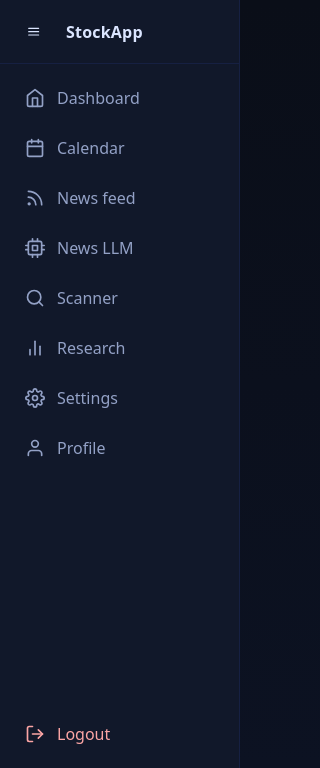
Scenario: Sidebar logout › shows an error and does not redirect when server logout fails
This screenshot has width=320, height=768.
Click the button "Logout" at (120, 734), box [12, 712, 227, 756]
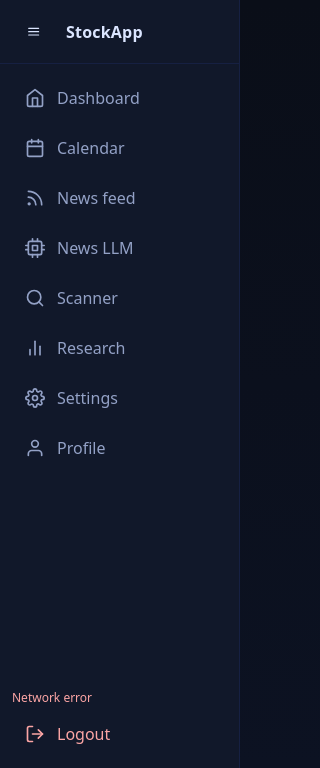
Expected: the message reads "Network error", [12, 689, 92, 706]
